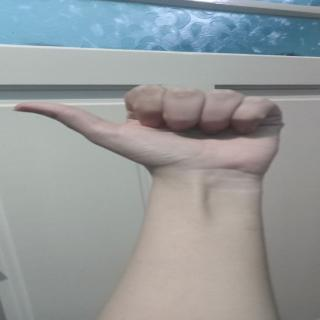DAD: (9, 83, 319, 165)
